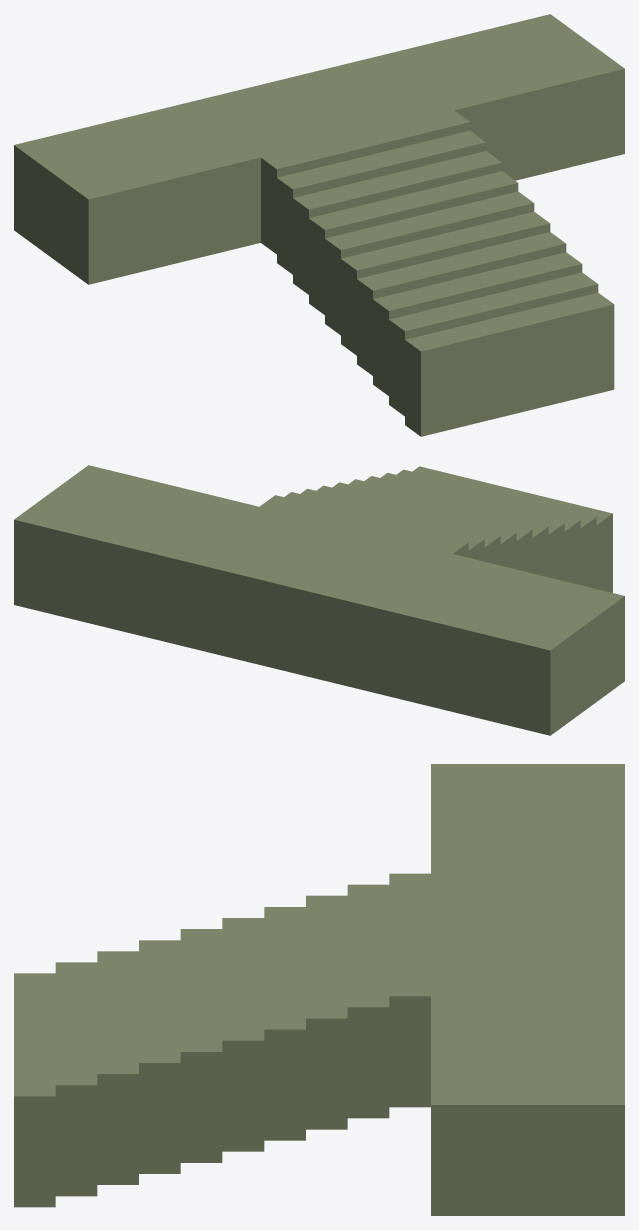
Rendered from Stairs.fbx.
3 views of the same model, one above another, from view 1: azimuth 30°, elevation 25°; view 2: azimuth 150°, elevation 25°; view 3: azimuth 270°, elevation 25° (orthographic). The views are drawn at different scales.
Parts seen in each view (by area): view 1: Stairs; view 2: Stairs; view 3: Stairs.
Part boxes in pixels (x1,y1,x2,y2): Stairs: (14, 14, 624, 436); Stairs: (14, 465, 624, 735); Stairs: (14, 764, 624, 1215).
Size of the model in its own units: 2112 by 610 by 1600.
